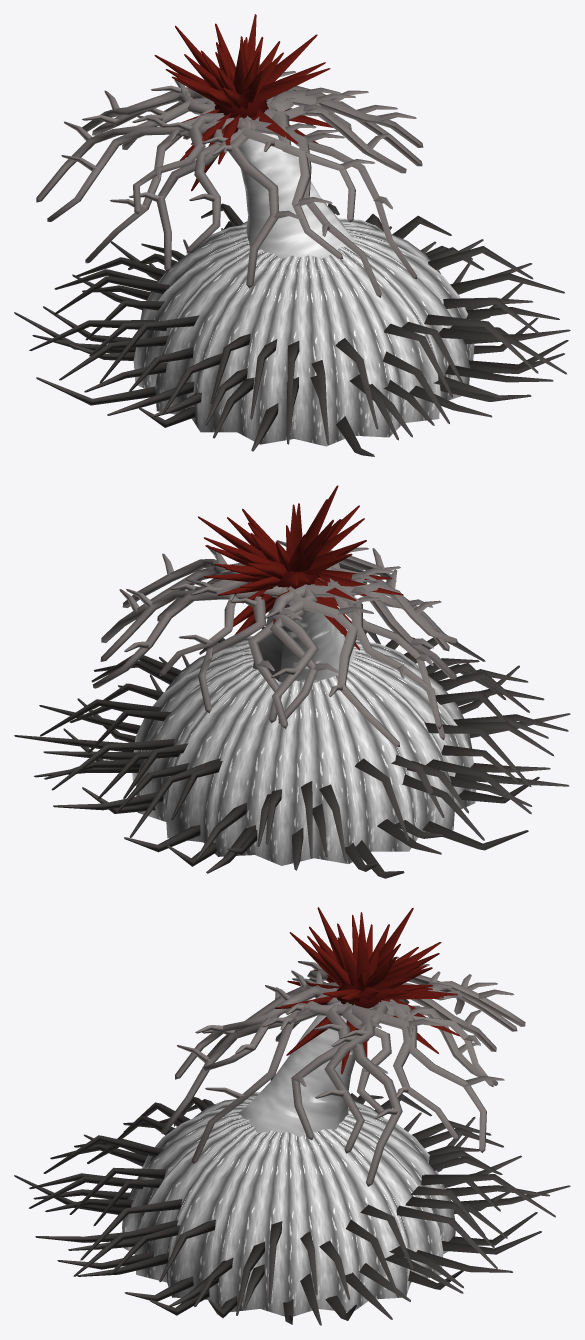
The model's file is TarTree08.glb.
3 renders of one model, top to bottom at view 1: azimuth 30°, elevation 25°; view 2: azimuth 150°, elevation 25°; view 3: azimuth 270°, elevation 25°, orthographic. The views are drawn at different scales.
Visible parts, largest first — view 1: TarTree08_dome; view 2: TarTree08_dome; view 3: TarTree08_dome.
Part boxes in pixels (x1,y1,x2,y2): TarTree08_dome: [14, 14, 570, 456]; TarTree08_dome: [14, 485, 570, 878]; TarTree08_dome: [14, 907, 570, 1325].
Bounding box in the file's own units: 6.35 × 4.05 × 6.43.
4 materials, 1 textured.
